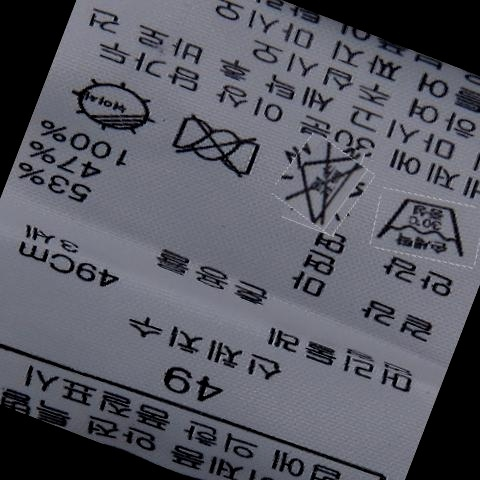DN_wring: (169, 120, 270, 171)
dry_flat_in_shade: (69, 79, 161, 134)
hand_wash: (379, 200, 470, 258)
non_chlorine_bleach: (284, 155, 361, 223)
